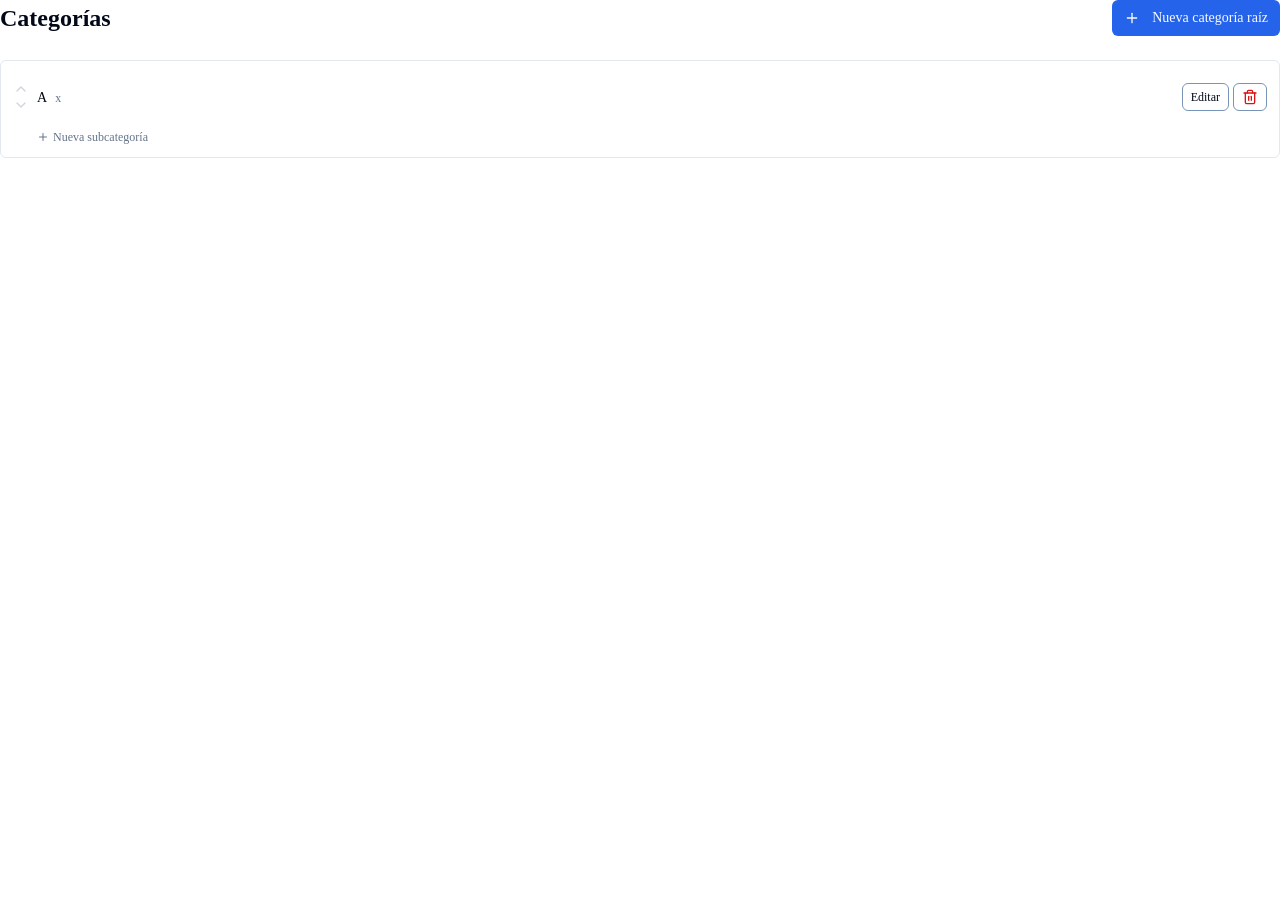
Test case: Admin categorías — formatos de precio permitidos (RP.2) › editar una categoría precarga sus formatos ya configurados
expect the text "A" is shown: met, box [37,90,47,105]
Click the button "Editar".
click(1205, 97)  # box [1182,83,1229,111]
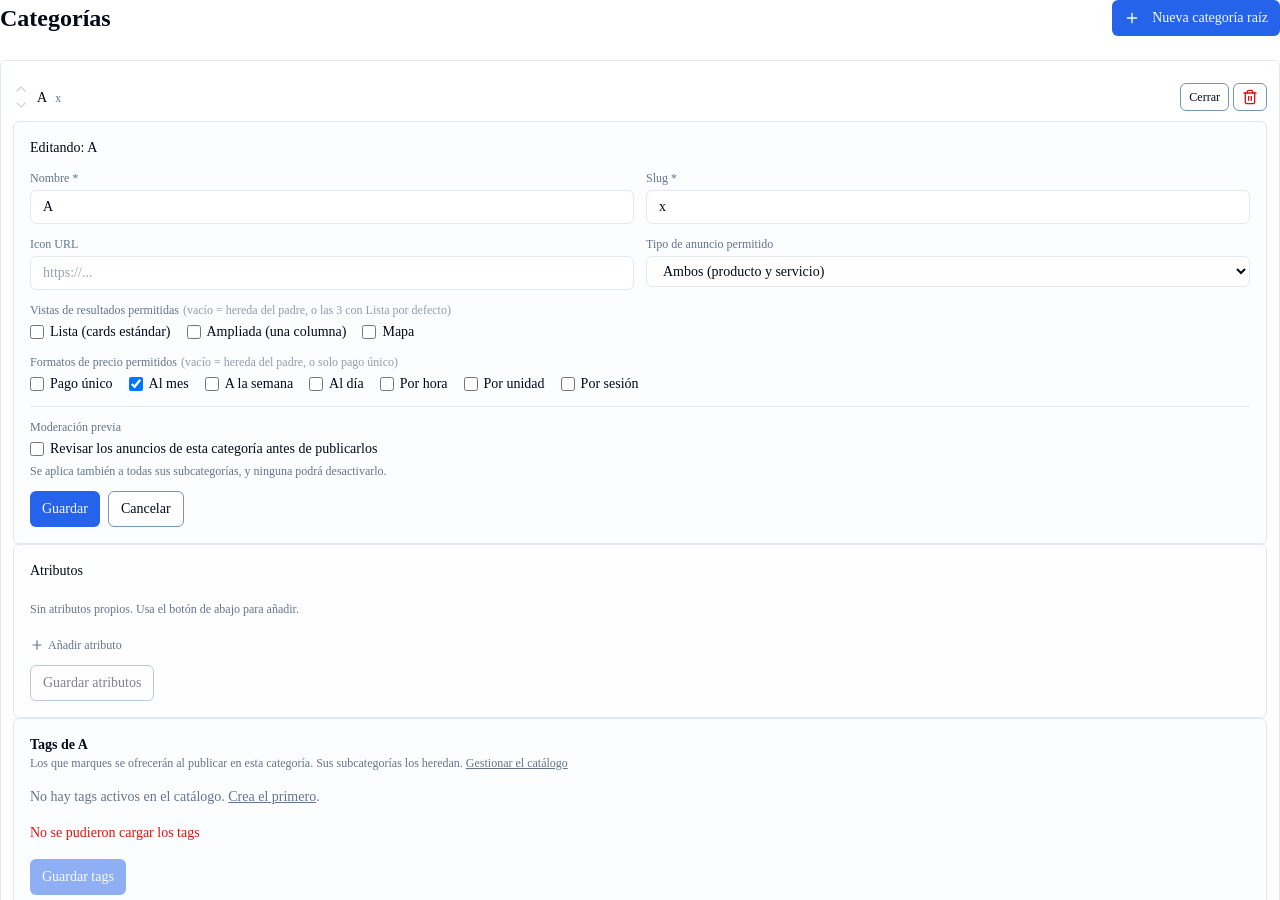
expect the element with test id "allowed-price-units-checkbox" is shown: met, box [30,376,638,391]
expect the checkbox with test id "allowed-price-unit-per_month" is checked: met, box [129,377,143,391]
expect the checkbox with test id "allowed-price-unit-one_time" is not checked: met, box [30,377,44,391]
